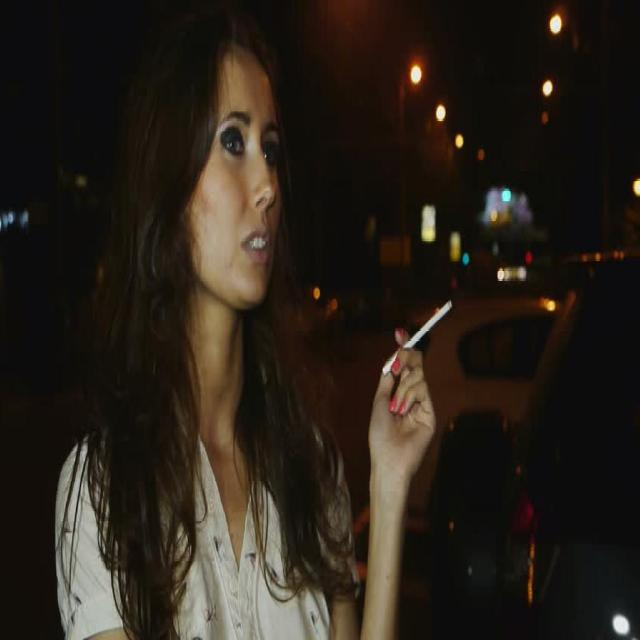smoking: (164, 19, 454, 497)
